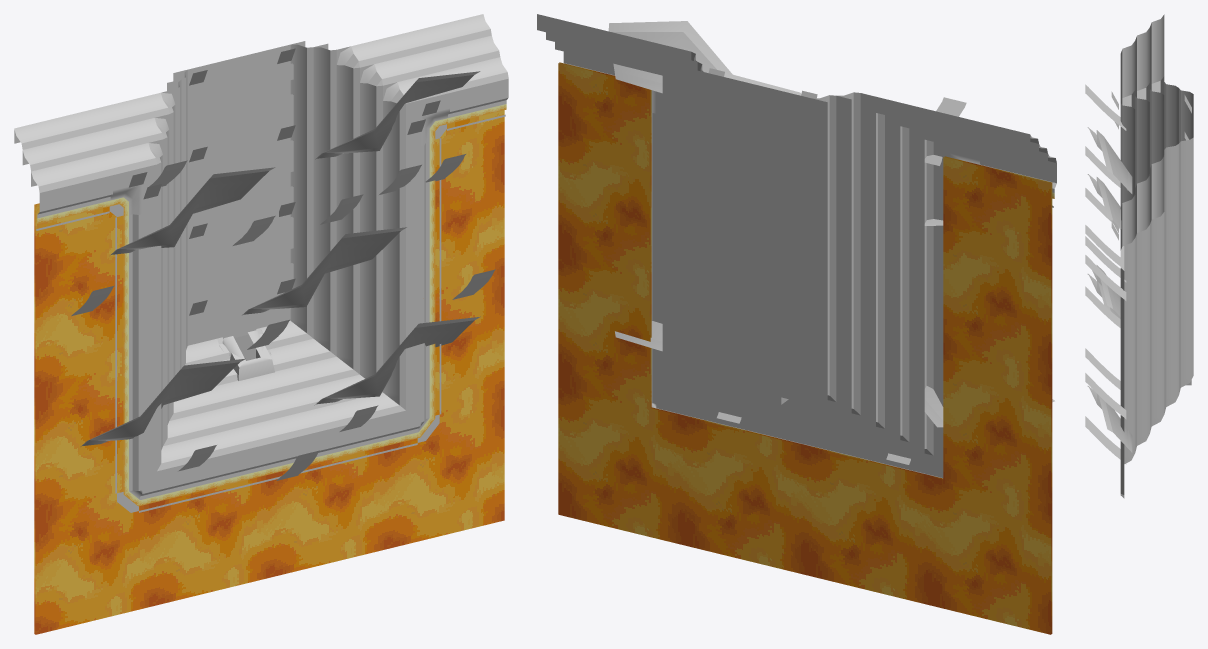
Rendered from Mount-Undara-1_04_04.obj.
The picture shows the model from 3 angles, left to right: view 1: azimuth 30°, elevation 25°; view 2: azimuth 150°, elevation 25°; view 3: azimuth 270°, elevation 25°; orthographic projection. The views are drawn at different scales.
Parts seen in each view (by area): view 1: map; view 2: map; view 3: map.
Boxes of the visible parts, left/top/right/bottom form: map: left=14, top=14, right=508, bottom=634; map: left=537, top=14, right=1056, bottom=634; map: left=1085, top=14, right=1193, bottom=498.
Bounding box in the file's own units: 32 × 32 × 7.42.
